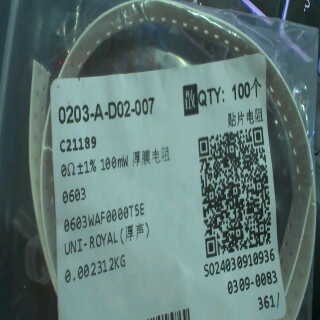0R: (59, 151, 131, 204)
